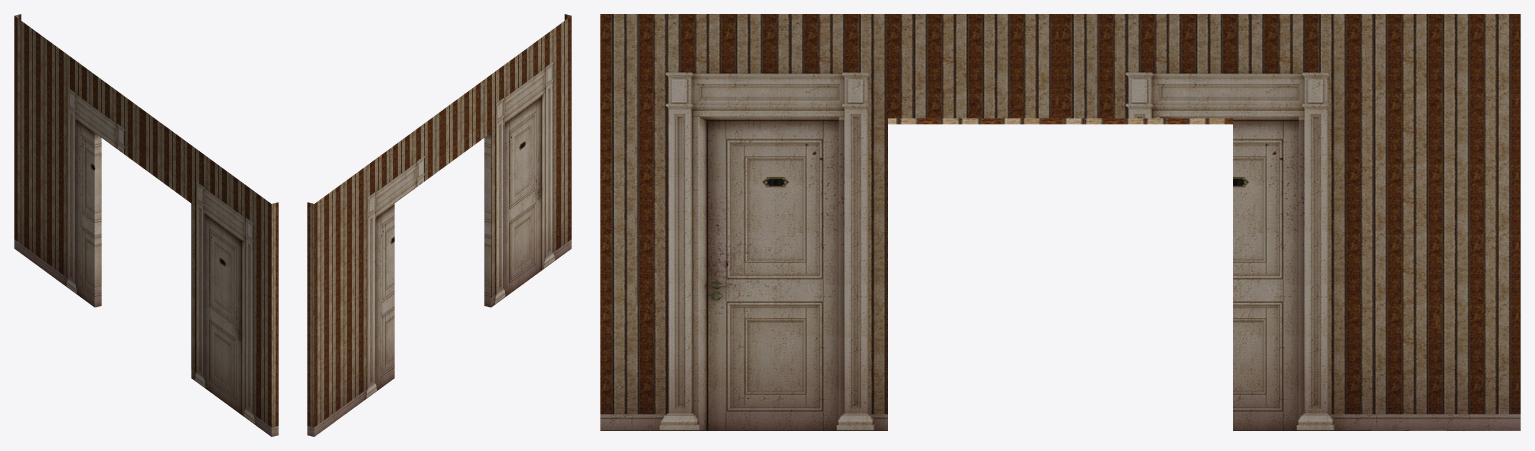
Rendered from door-frame_8x4_S.obj.
3 renders of one model, left to right at view 1: azimuth 30°, elevation 25°; view 2: azimuth 150°, elevation 25°; view 3: azimuth 270°, elevation 25°, orthographic. The views are drawn at different scales.
Visible parts, largest first — view 1: door-frame_8x4_S_Cube.014; view 2: door-frame_8x4_S_Cube.014; view 3: door-frame_8x4_S_Cube.014.
Boxes of the visible parts, bbox=[...] form: door-frame_8x4_S_Cube.014: bbox=[14, 14, 278, 436]; door-frame_8x4_S_Cube.014: bbox=[307, 14, 571, 436]; door-frame_8x4_S_Cube.014: bbox=[600, 14, 1520, 430].
Bounding box in the file's own units: 0.125 × 4 × 8.
